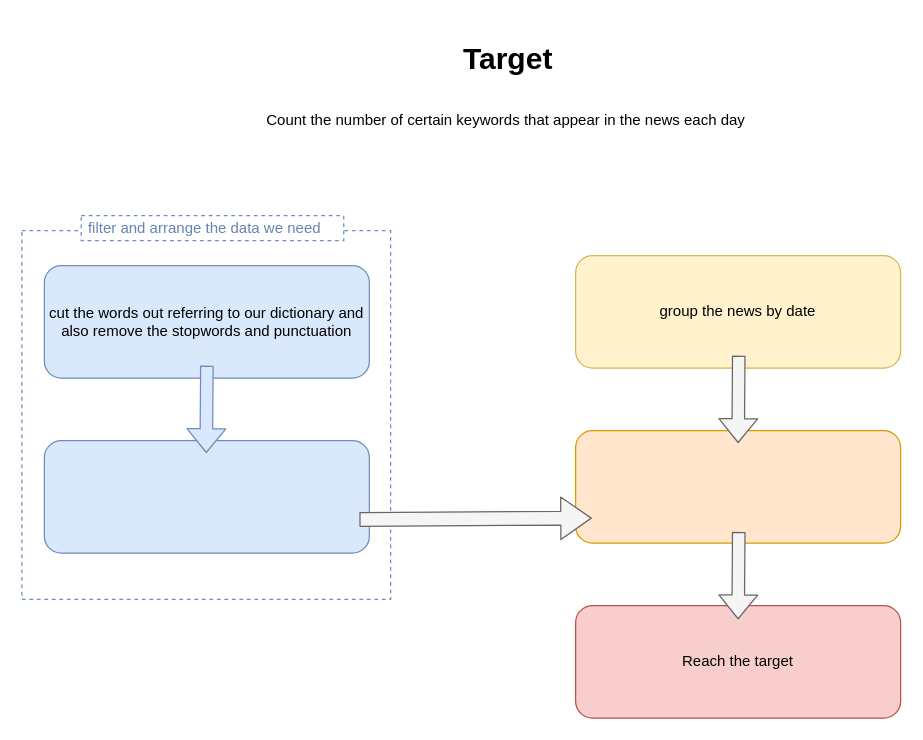
Image size: 923x740. Some labels were removed from this diagram. The centre of each missing label's shape, as x and y in pixels:
"Calculate the total frequency of each keywords in all news each day" goes at pixel 737 486.
"record the cut words with their frequency for each news" goes at pixel 206 496.
